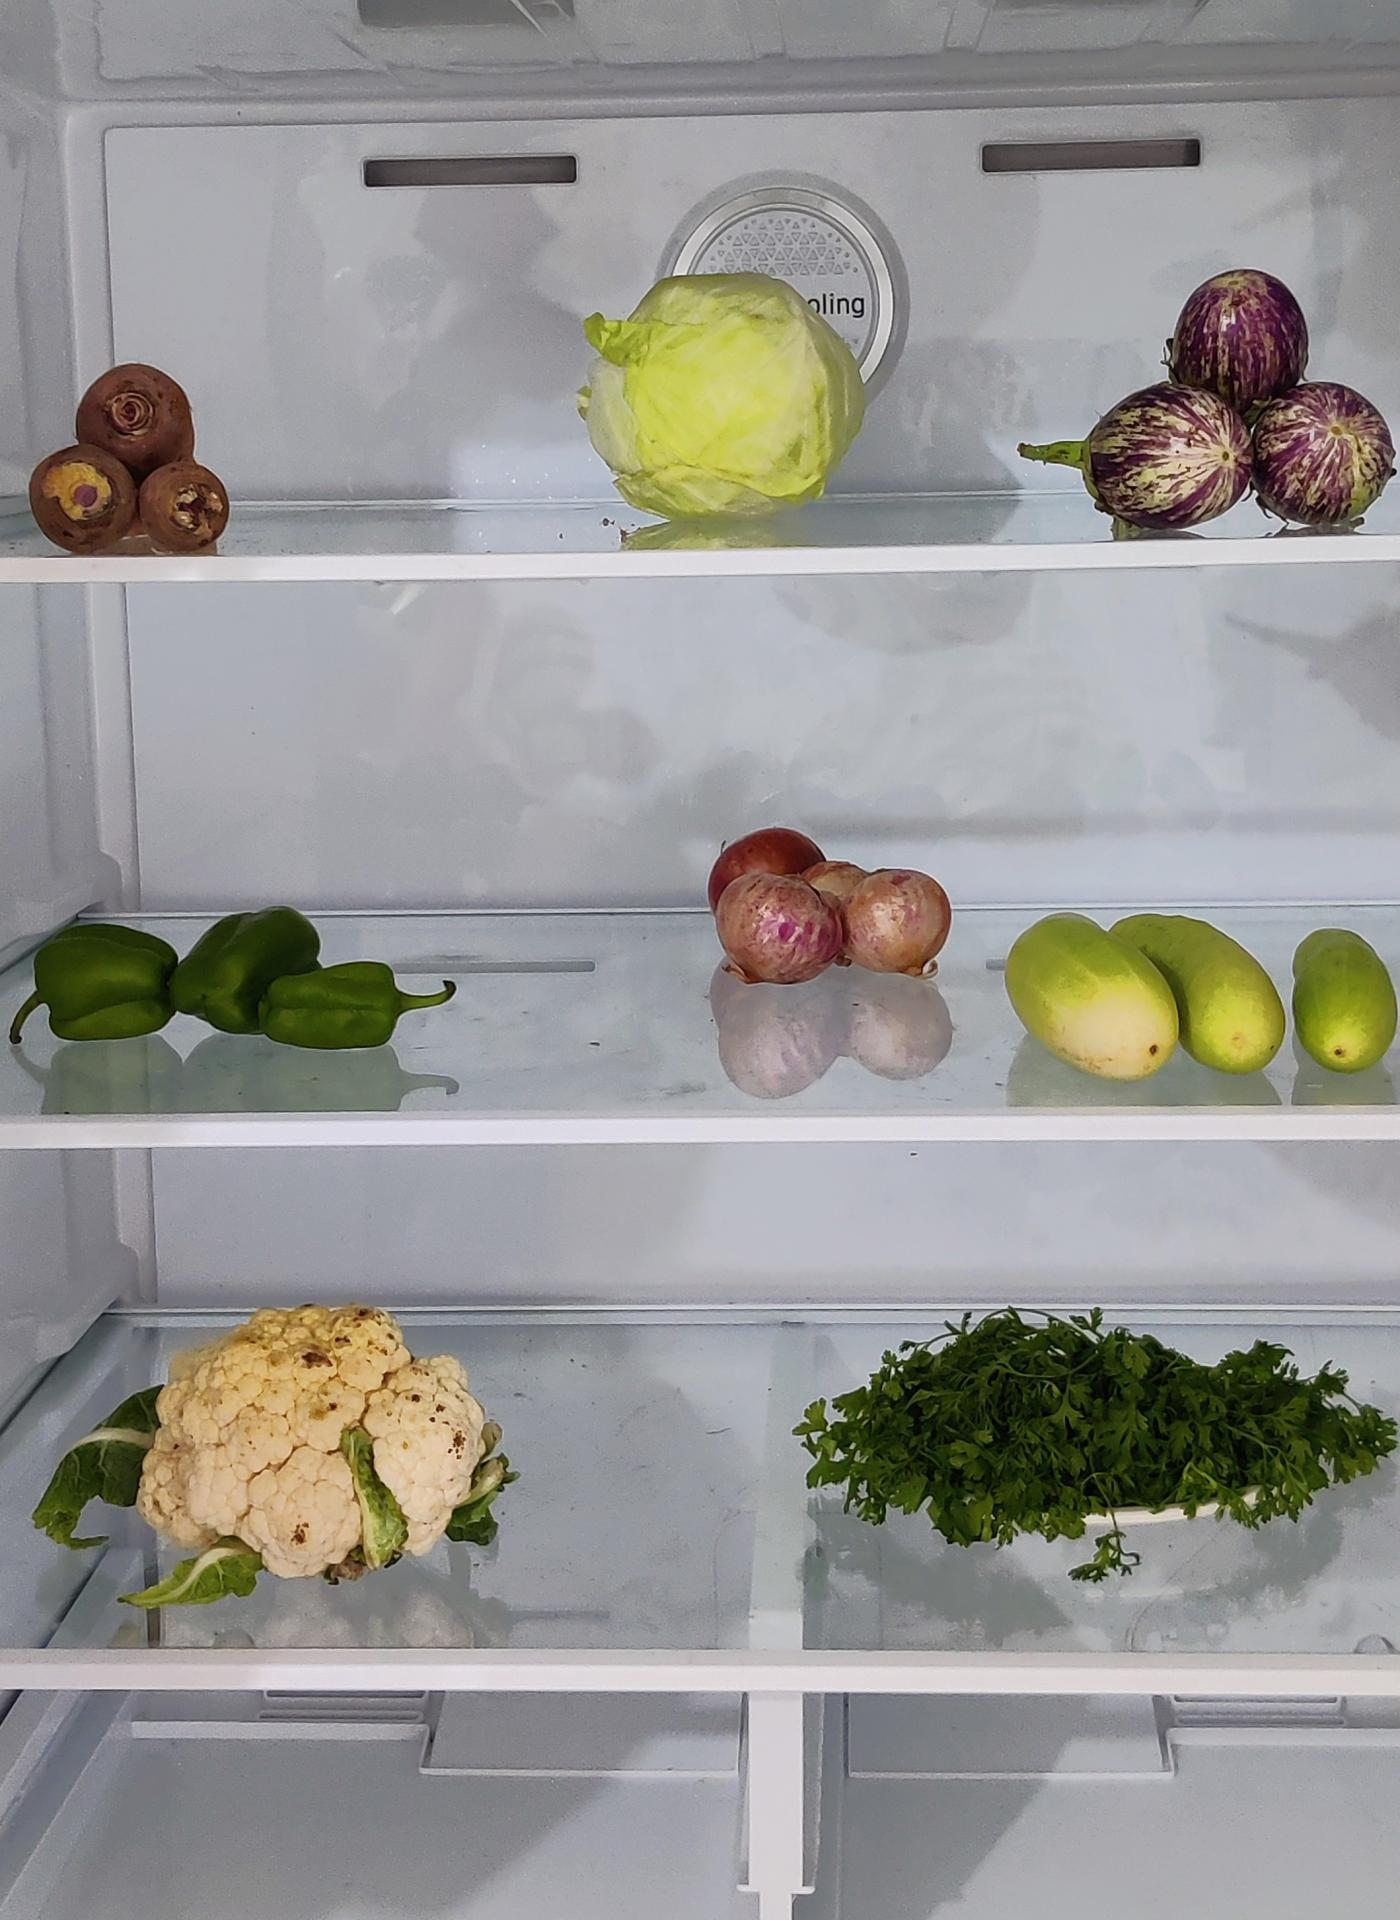brinjal: (1042, 239, 1385, 529)
cabbage: (580, 271, 869, 517)
capsicum: (15, 912, 443, 1061)
carrots: (22, 355, 231, 555)
cauliflower: (136, 1303, 511, 1577)
coriander: (807, 1321, 1400, 1552)
cucumber: (1011, 900, 1302, 1069)
onion: (699, 814, 950, 981)
